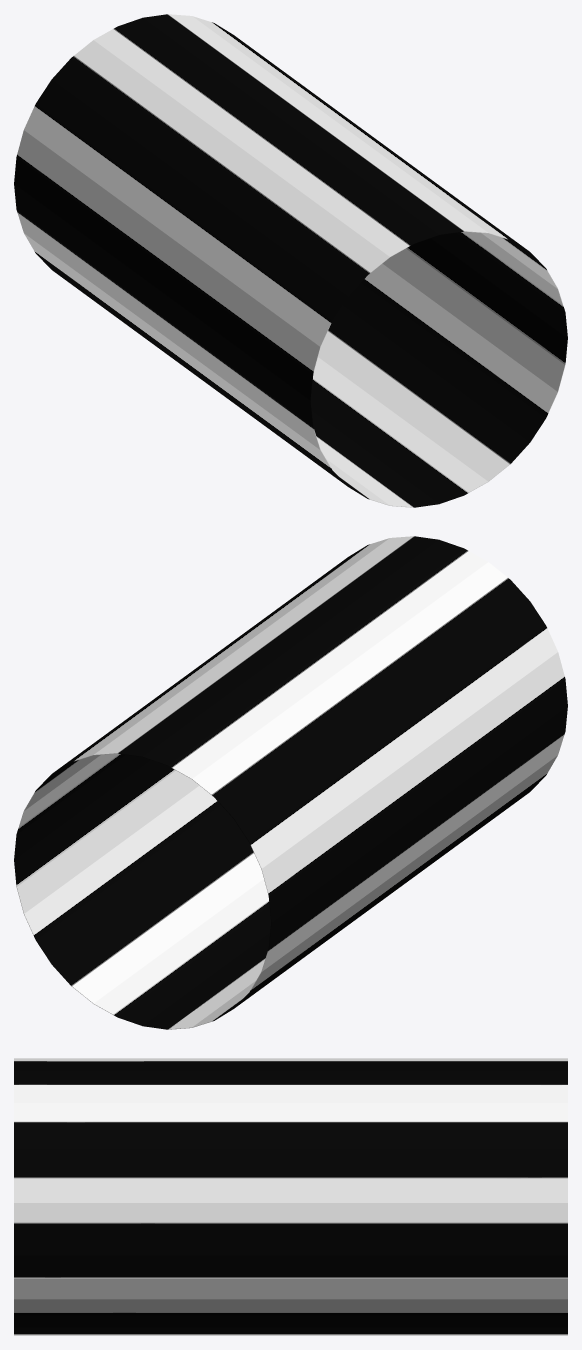
Rendered from vection 1.fbx.
3 renders of one model, top to bottom at view 1: azimuth 30°, elevation 25°; view 2: azimuth 150°, elevation 25°; view 3: azimuth 270°, elevation 25°, orthographic. The views are drawn at different scales.
Parts seen in each view (by area): view 1: Cylinder; view 2: Cylinder; view 3: Cylinder.
Boxes of the visible parts, x1,y1,x2,y2 form: Cylinder: (14,14,567,507); Cylinder: (14,536,567,1029); Cylinder: (14,1058,567,1335).
Bounding box in the file's own units: 201 × 201 × 400.
